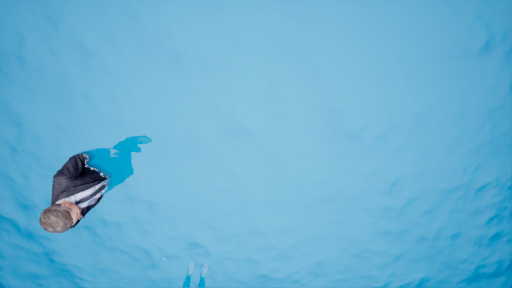person: (39, 127, 154, 241)
